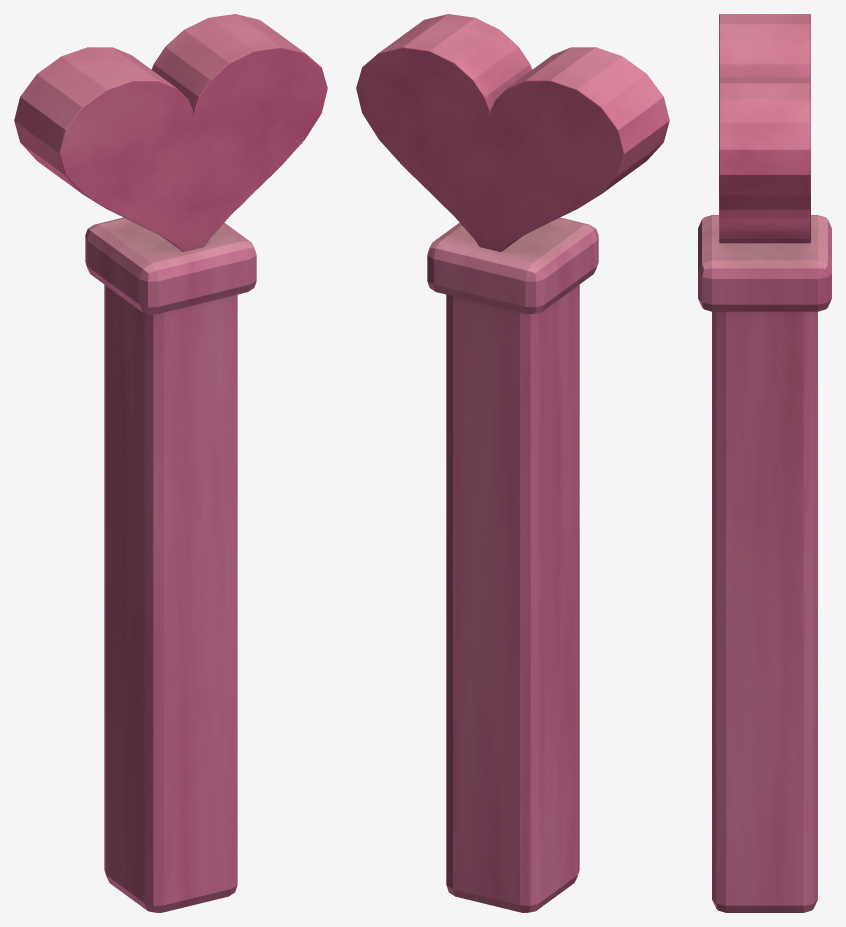
The model's file is heart_fence_post.glb.
3 views of the same model, side by side, from view 1: azimuth 30°, elevation 25°; view 2: azimuth 150°, elevation 25°; view 3: azimuth 270°, elevation 25° (orthographic).
Visible parts, largest first — view 1: heart_fence_post; view 2: heart_fence_post; view 3: heart_fence_post.
Part boxes in pixels (bbox=[...]): heart_fence_post: bbox=[14, 14, 327, 912]; heart_fence_post: bbox=[356, 14, 669, 912]; heart_fence_post: bbox=[698, 14, 831, 912].
Size of the model in its own units: 0.44 by 1.32 by 0.19.
1 material, 1 textured.
